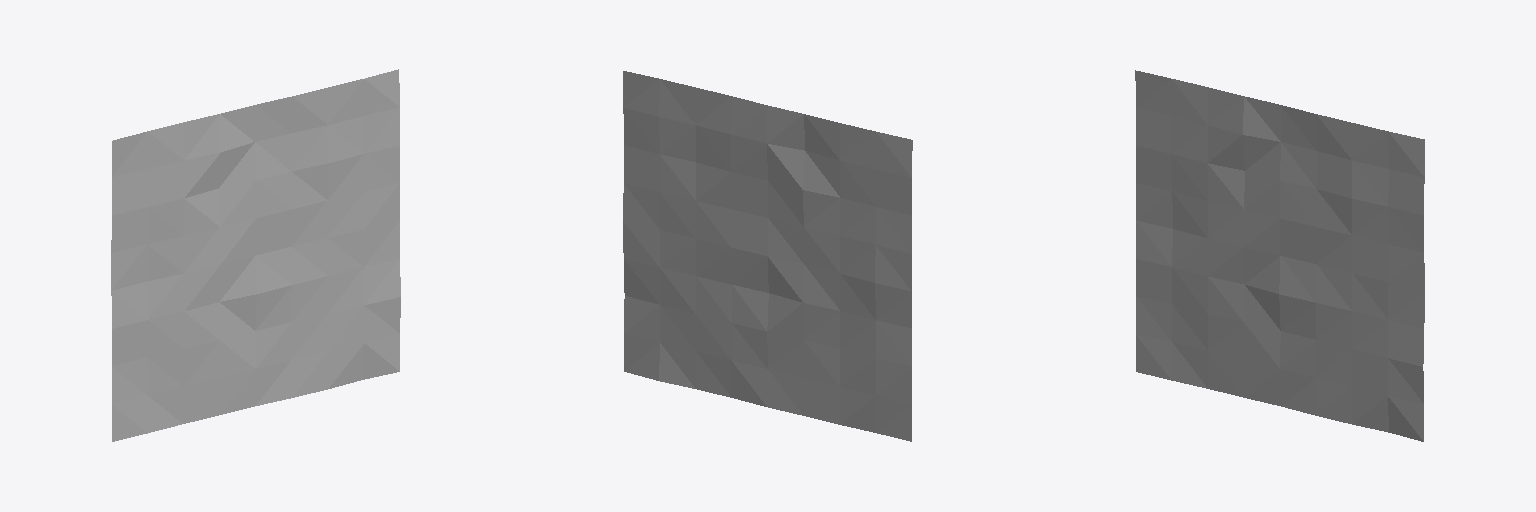
File: grass.obj
The picture shows the model from 3 angles: view 1: azimuth 30°, elevation 25°; view 2: azimuth 150°, elevation 25°; view 3: azimuth 330°, elevation 25°; orthographic projection.
Visible parts, largest first — view 1: Plane; view 2: Plane; view 3: Plane.
Boxes of the visible parts, <box> form: Plane: <box>111,69,400,441</box>; Plane: <box>623,71,912,441</box>; Plane: <box>1135,70,1424,441</box>.
Size of the model in its own units: 32 by 32 by 0.4254.